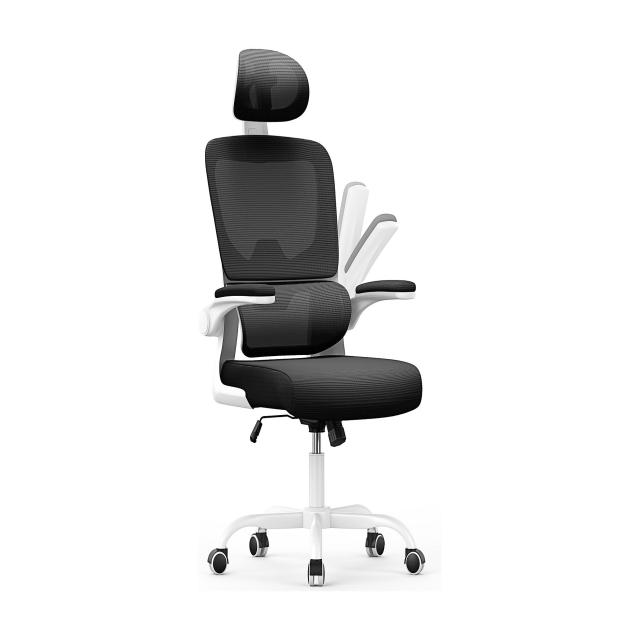chair: (200, 47, 426, 586)
